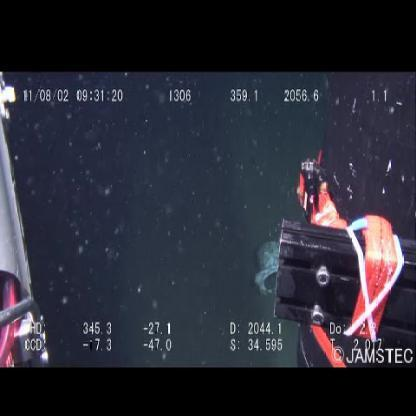Rác: (255, 242, 280, 298)
